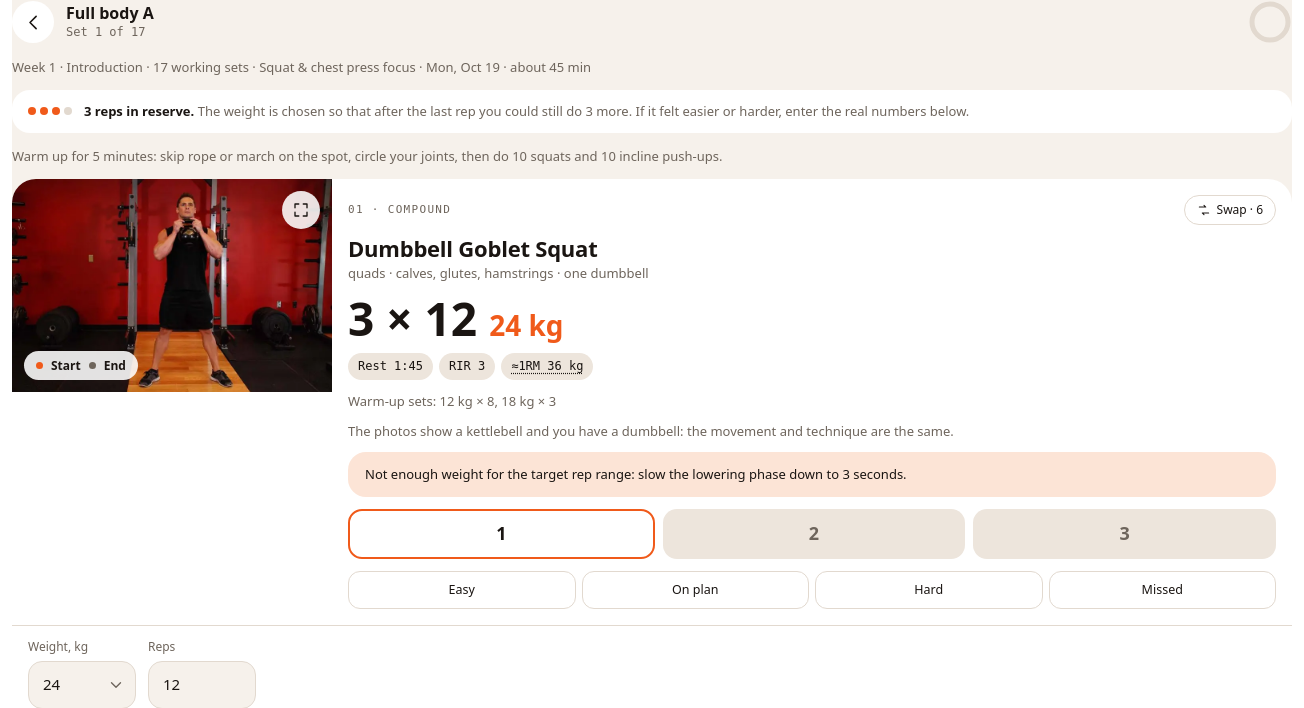
Test: SessionScreen: replacing exercises › picks a random replacement and can undo it
This screenshot has width=1304, height=708.
Click the button with aria-label "Swap for another exercise, 6 options": (1230, 210) [1184,195,1276,225]
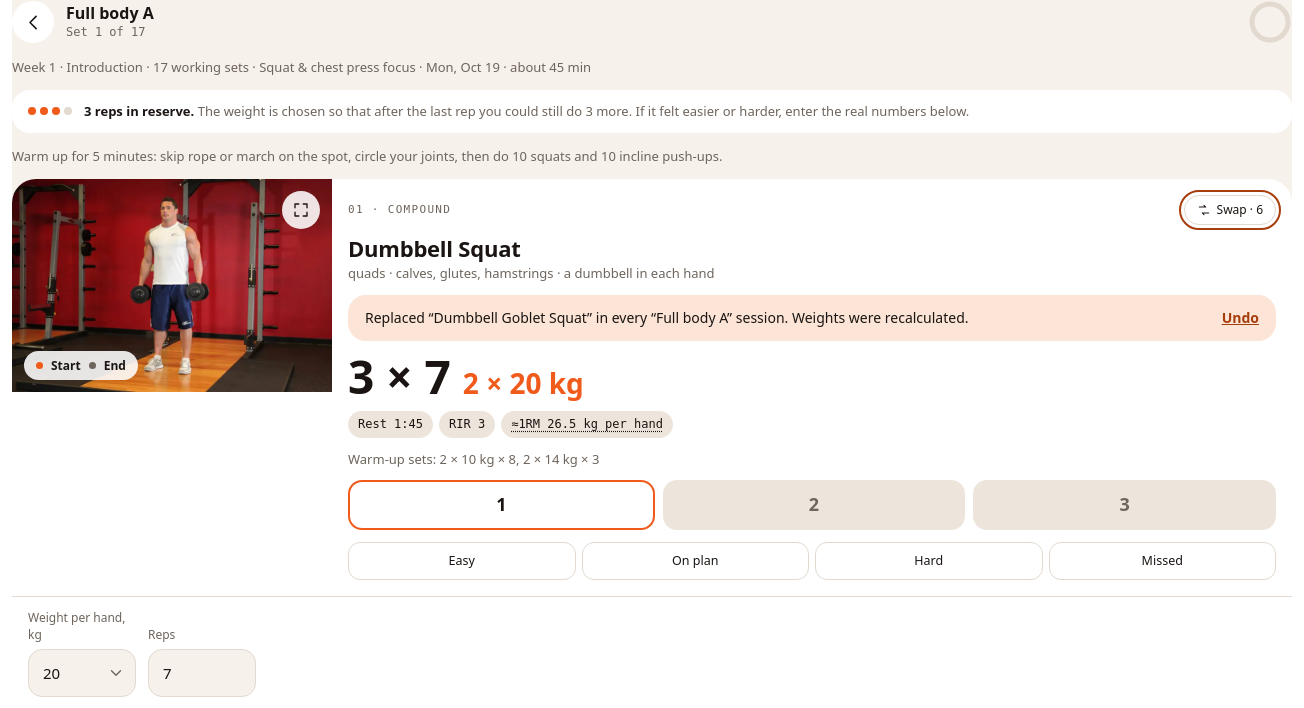
Result: the message shows "Replaced “Dumbbell Goblet Squat” in every “Full body A” session. Weights were recalculated." at [365,308,968,327]
Click the button "Undo": (1240, 318) [1222,308,1259,328]
(page scrolled)
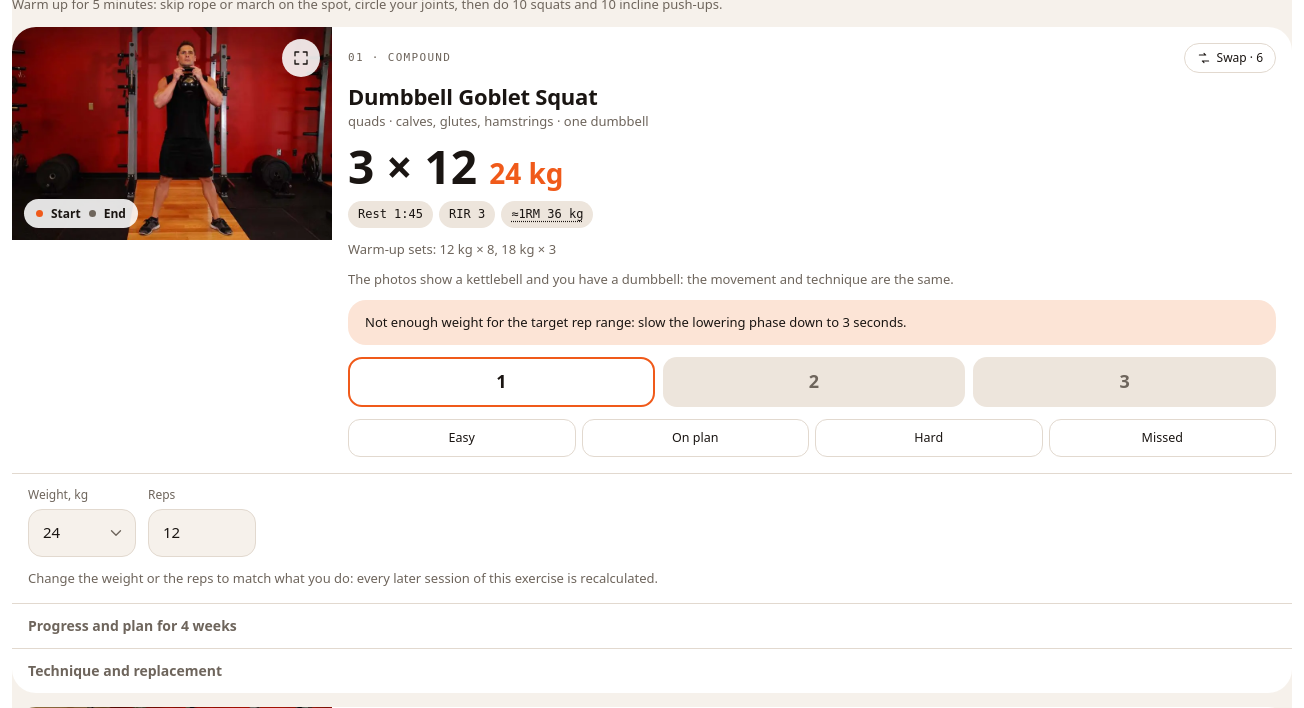
Result: the message is gone
